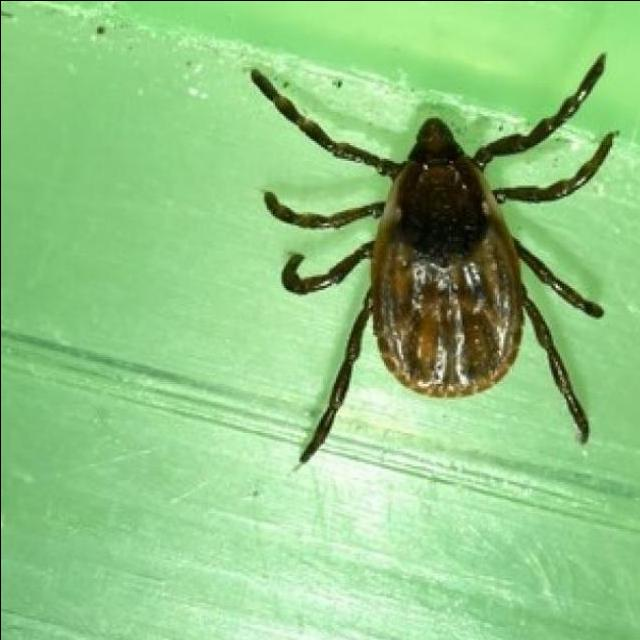Rhipicephalus Sanguineus-F: (248, 53, 618, 461)
